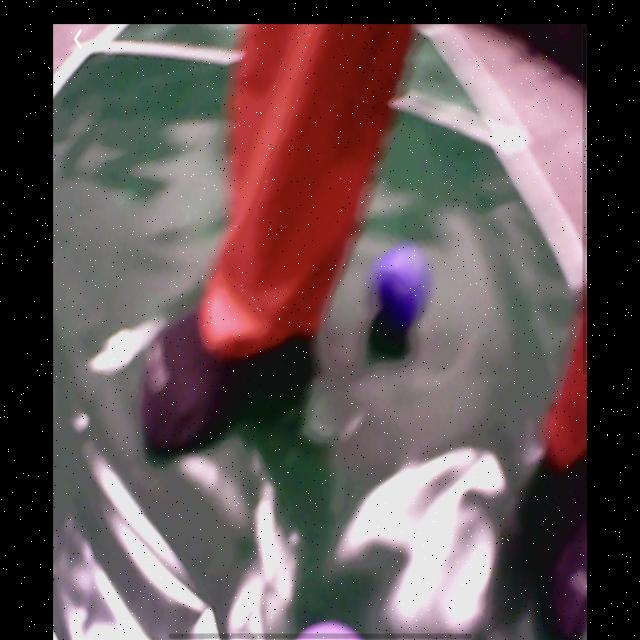ball: (374, 243, 432, 331), (298, 620, 365, 640)
